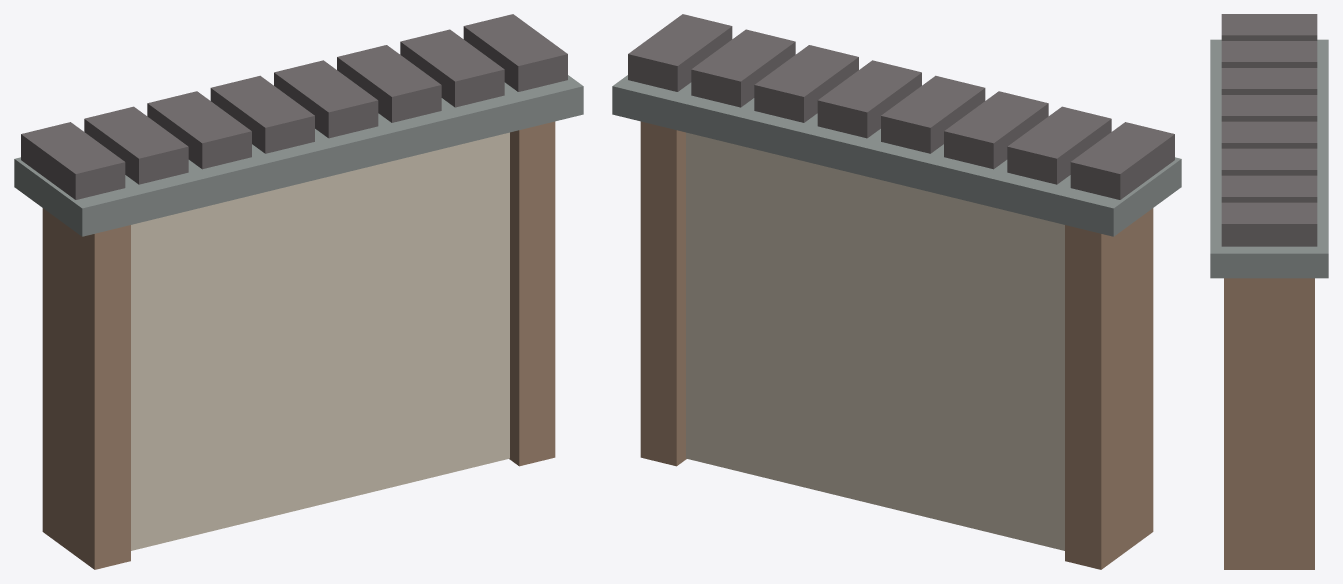
File: courtyard_wall_2m.glb
3 renders of one model, left to right at view 1: azimuth 30°, elevation 25°; view 2: azimuth 150°, elevation 25°; view 3: azimuth 270°, elevation 25°, orthographic. The views are drawn at different scales.
Parts seen in each view (by area): view 1: box_0, box_1, box_3, box_2, box_4, box_6, box_10, box_5, box_8, box_9, box_11, box_7; view 2: box_0, box_1, box_3, box_2, box_4, box_6, box_10, box_5, box_8, box_9, box_11, box_7; view 3: box_2, box_3, box_11, box_8, box_9, box_10, box_4, box_5, box_6, box_7.
Boxes of the visible parts, bbox=[...] form: box_0: bbox=[131, 132, 509, 550]; box_1: bbox=[42, 208, 130, 569]; box_3: bbox=[14, 75, 583, 236]; box_2: bbox=[509, 121, 555, 466]; box_4: bbox=[21, 122, 125, 199]; box_6: bbox=[147, 91, 251, 169]; box_10: bbox=[400, 29, 504, 107]; box_5: bbox=[84, 106, 188, 184]; box_8: bbox=[274, 60, 378, 138]; box_9: bbox=[337, 45, 441, 122]; box_11: bbox=[463, 14, 567, 91]; box_7: bbox=[210, 75, 314, 153]; box_0: bbox=[686, 132, 1064, 550]; box_1: bbox=[1065, 208, 1153, 569]; box_3: bbox=[612, 75, 1181, 236]; box_2: bbox=[640, 121, 686, 466]; box_4: bbox=[1070, 122, 1174, 199]; box_6: bbox=[944, 91, 1048, 169]; box_10: bbox=[691, 29, 795, 107]; box_5: bbox=[1007, 106, 1111, 184]; box_8: bbox=[817, 60, 921, 138]; box_9: bbox=[754, 45, 858, 122]; box_11: bbox=[628, 14, 732, 91]; box_7: bbox=[881, 75, 985, 153]; box_2: bbox=[1224, 278, 1314, 569]; box_3: bbox=[1210, 39, 1328, 278]; box_11: bbox=[1221, 202, 1317, 246]; box_8: bbox=[1221, 121, 1317, 148]; box_9: bbox=[1221, 148, 1317, 175]; box_10: bbox=[1221, 175, 1317, 202]; box_4: bbox=[1221, 14, 1317, 40]; box_5: bbox=[1221, 41, 1317, 67]; box_6: bbox=[1221, 68, 1317, 94]; box_7: bbox=[1221, 95, 1317, 121].
Size of the model in its own units: 2.22 by 1.7 by 0.52.
